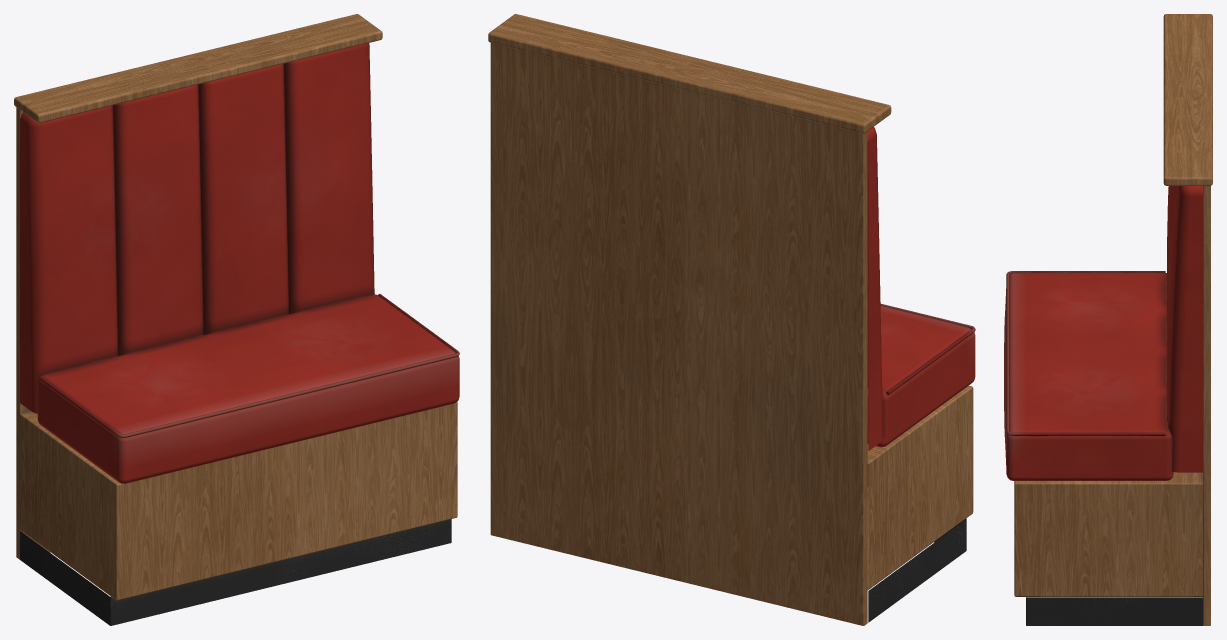
File: StoreBoothBench.fbx
The picture shows the model from 3 angles, left to right: view 1: azimuth 30°, elevation 25°; view 2: azimuth 150°, elevation 25°; view 3: azimuth 270°, elevation 25°; orthographic projection. The views are drawn at different scales.
Visible parts, largest first — view 1: StoreBoothBench_Cushion, StoreBoothBench; view 2: StoreBoothBench, StoreBoothBench_Cushion; view 3: StoreBoothBench_Cushion, StoreBoothBench.
Boxes of the visible parts, x1,y1,x2,y2 form: StoreBoothBench_Cushion: [20, 43, 459, 483]; StoreBoothBench: [14, 14, 457, 625]; StoreBoothBench: [488, 14, 973, 625]; StoreBoothBench_Cushion: [867, 127, 975, 450]; StoreBoothBench_Cushion: [1004, 186, 1202, 480]; StoreBoothBench: [1014, 14, 1212, 625].
Bounding box in the file's own units: 0.99 × 1.26 × 0.531.
